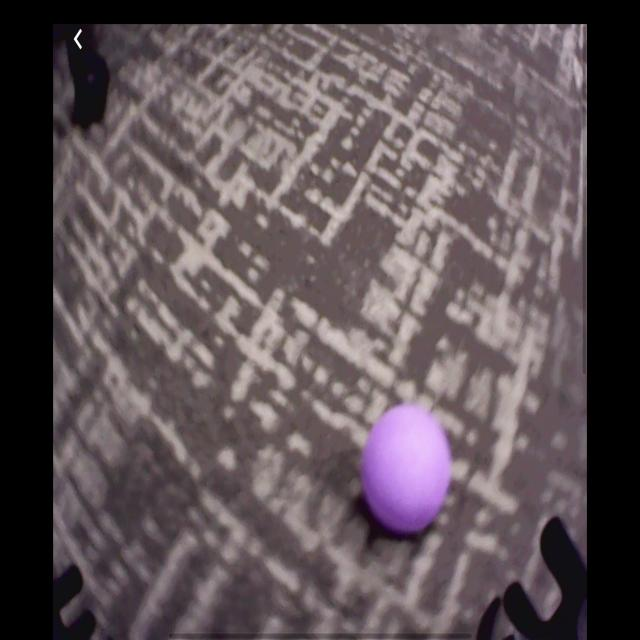ball: (363, 406, 451, 536)
